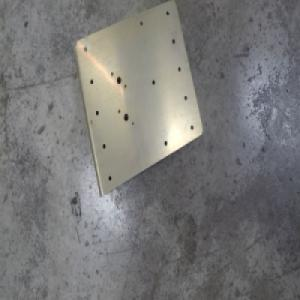MetalSheet: (70, 0, 204, 200)
